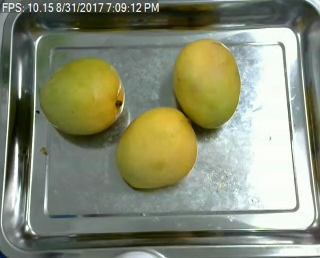Mango: (113, 105, 198, 188), (39, 59, 123, 137), (172, 38, 240, 127)
